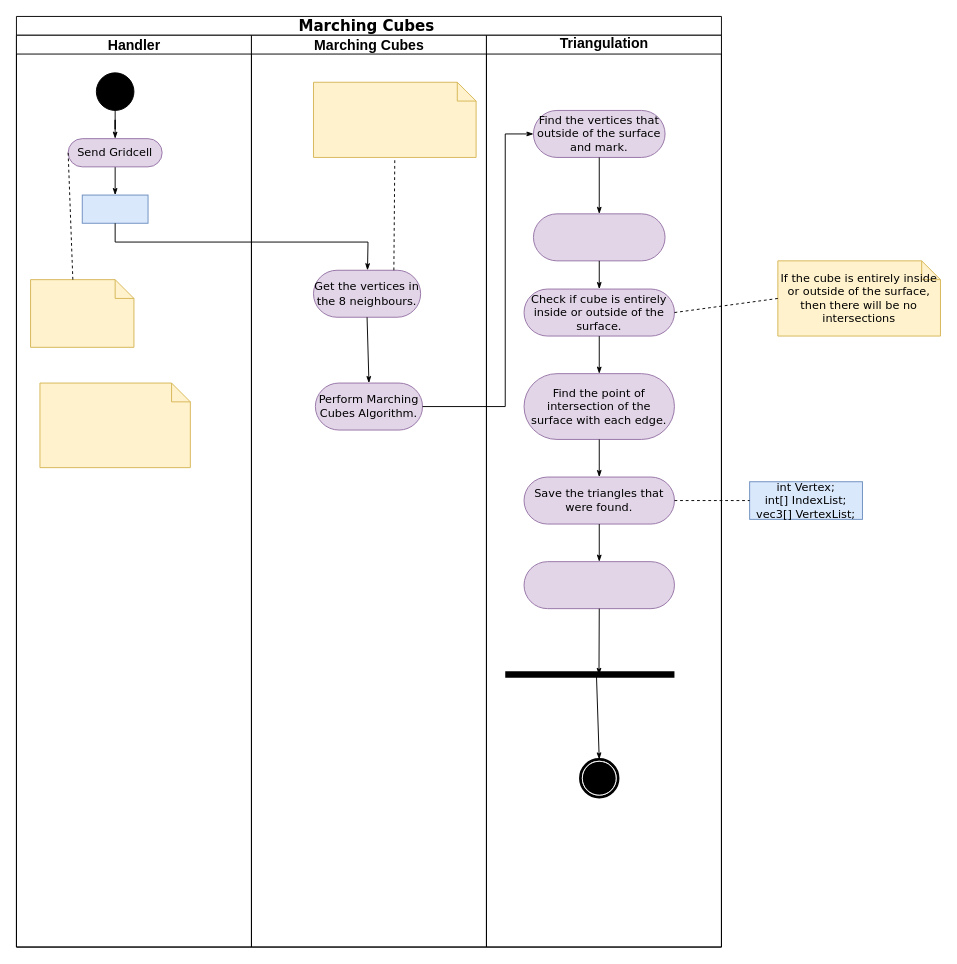
This 957x964 diagram has some shape labels left out. The shapes that lost their labels are listed below. From the top down, each one's box as (x1, y1, x2, y2) in pixels, then its label:
(313, 81, 476, 157): 256 possible case down to 15 cases with reflections for visualization.
(81, 194, 148, 223): Struct Gridcell[]
(533, 213, 665, 261): Find which edges are intersected by the surface.
(30, 279, 134, 347): Send gridcell vertices and isolevel.
(39, 382, 190, 468): Provide informations from Zhu et al.[ZB05] algorithm.
(523, 561, 674, 609): Draw Triangles.
